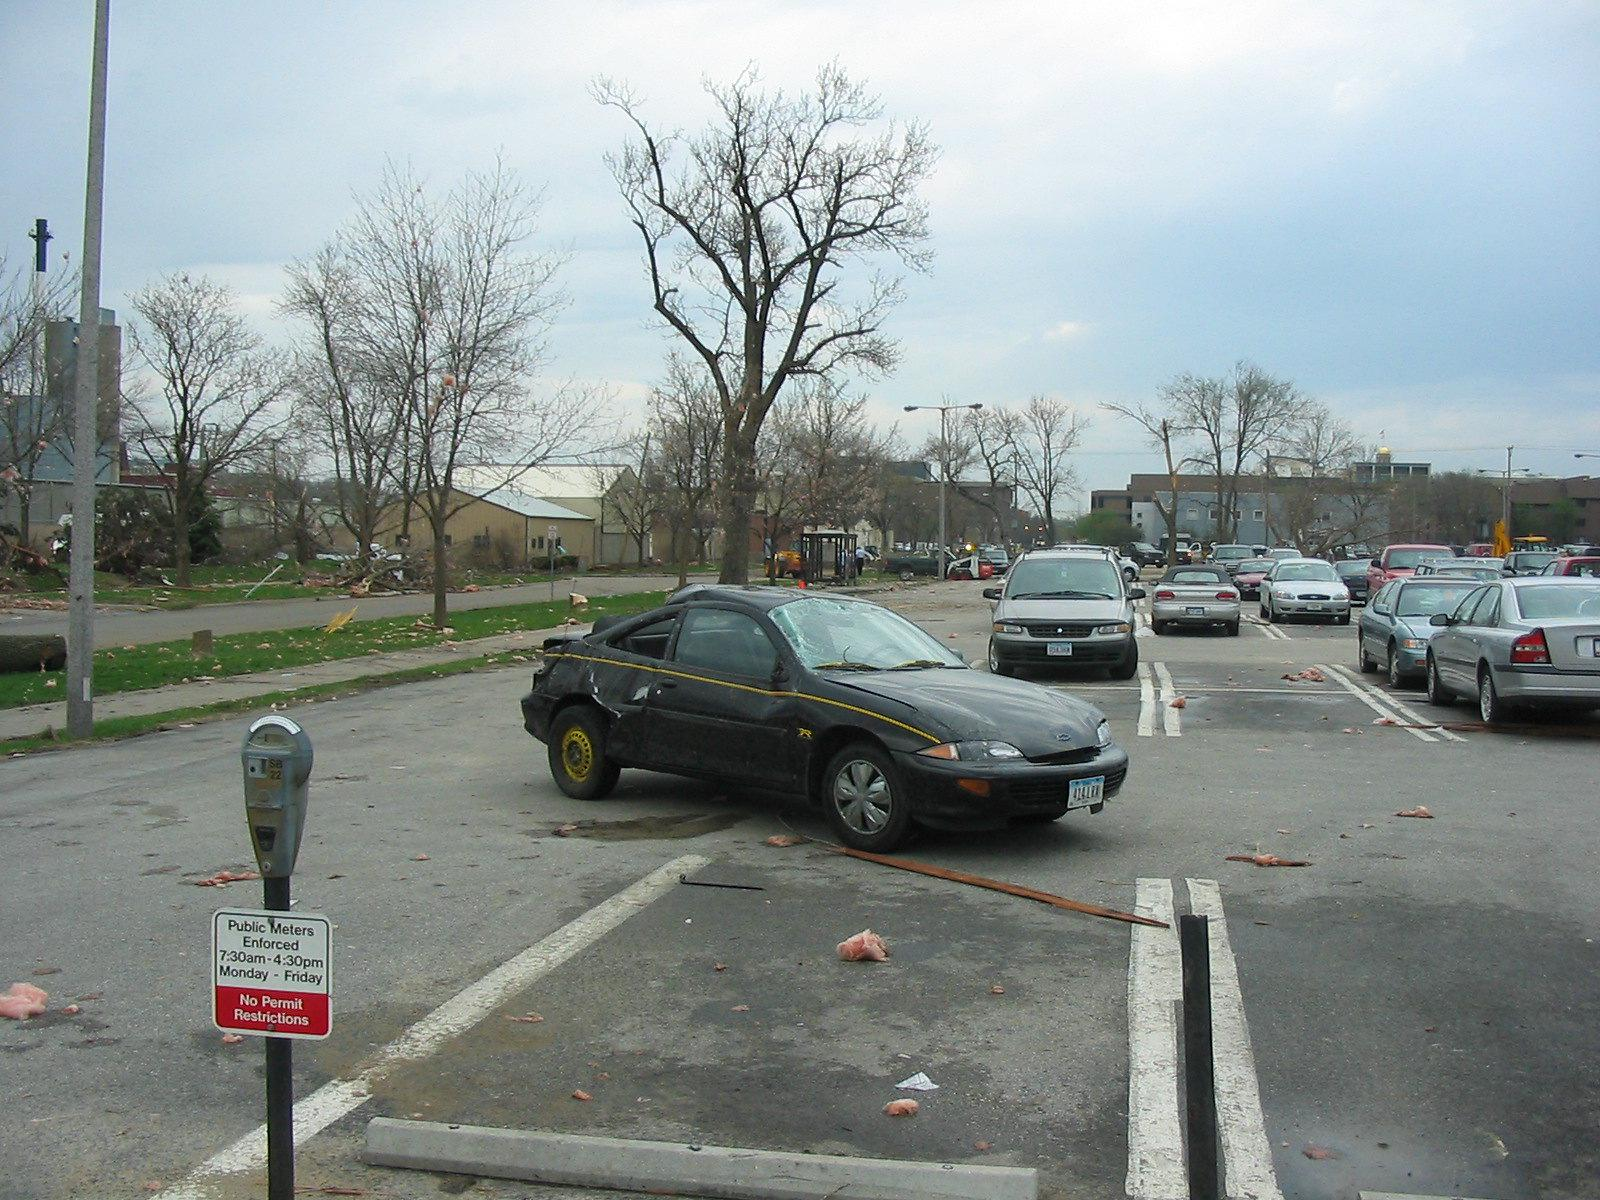doorouter-dent: (661, 666, 808, 776)
quaterpanel-dent: (532, 633, 658, 736)
